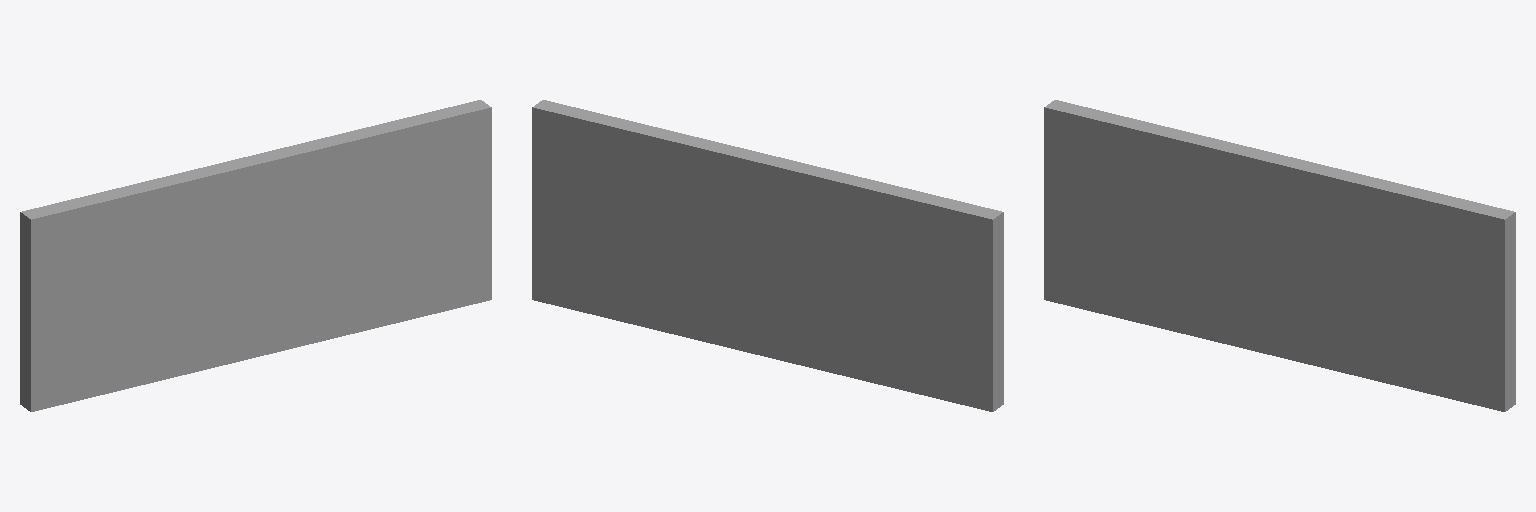
The robot description file, URDF, robot "simple_wall":
<?xml version="1.0"?>
<robot name="simple_wall">

  <!-- 기준이 되는 월드 링크 -->
  <link name="world"/>

  <!-- 벽 본체 링크 -->
  <link name="wall_link">
    <!-- 1. 시각적 요소 (RViz 및 시뮬레이터 화면 표시용) -->
    <visual>
      <!-- 벽의 중심점이 높이의 절반(1.0m)에 오도록 올려 바닥 위에 배치 -->
      <origin xyz="0 0 1.0" rpy="0 0 0"/>
      <geometry>
        <box size="5.0 0.2 2.0"/>
      </geometry>
      <material name="gray">
        <color rgba="0.7 0.7 0.7 1.0"/>
      </material>
    </visual>

    <!-- 2. 충돌 요소 (물리 엔진 충돌 감지용) -->
    <collision>
      <origin xyz="0 0 1.0" rpy="0 0 0"/>
      <geometry>
        <box size="5.0 0.2 2.0"/>
      </geometry>
    </collision>

    <!-- 3. 관성 요소 (Gazebo 등 물리 시뮬레이터 필수 항목) -->
    <inertial>
      <origin xyz="0 0 1.0" rpy="0 0 0"/>
      <mass value="100.0"/>
      <inertia ixx="33.67" ixy="0.0" ixz="0.0"
               iyy="241.67" iyz="0.0"
               izz="208.67"/>
    </inertial>
  </link>

  <!-- 월드에 벽을 단단히 고정하는 조인트 -->
  <joint name="wall_fixed_joint" type="fixed">
    <parent link="world"/>
    <child link="wall_link"/>
    <!-- 벽을 배치할 월드 좌표 (x, y, z) 및 회전각 (roll, pitch, yaw) -->
    <origin xyz="2.0 0.0 0.0" rpy="0 0 0"/>
  </joint>

  <!-- Gazebo 색상 및 고정 설정 -->
  <gazebo reference="wall_link">
    <material>Gazebo/Grey</material>
    <static>true</static>
  </gazebo>

</robot>

--- What the picture shows (computed from the rendered views, not written in the file) ---
The picture shows the robot from 3 angles, left to right: view 1: azimuth 30°, elevation 25°; view 2: azimuth 150°, elevation 25°; view 3: azimuth 330°, elevation 25°; orthographic projection.
Robot: simple_wall — 2 links, 1 joints (1 fixed); root link world; default pose: every joint at zero.
Visible links, largest first — view 1: wall_link; view 2: wall_link; view 3: wall_link.
Boxes of the visible links, x1,y1,x2,y2 form: wall_link: (20, 100, 491, 411); wall_link: (532, 100, 1003, 411); wall_link: (1044, 100, 1515, 411).
Size in the robot's own frame: 5 by 0.2 by 2 metres.
Geometry: primitives only (box / cylinder / sphere), no mesh files.
